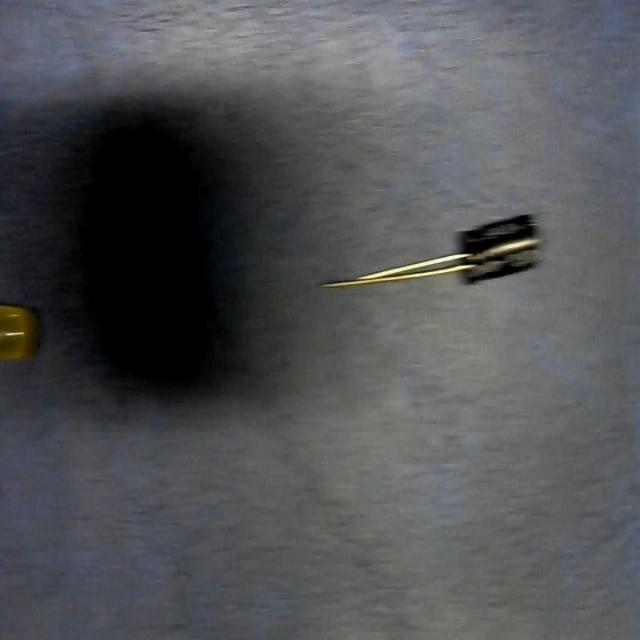capacitor: (324, 215, 540, 291)
